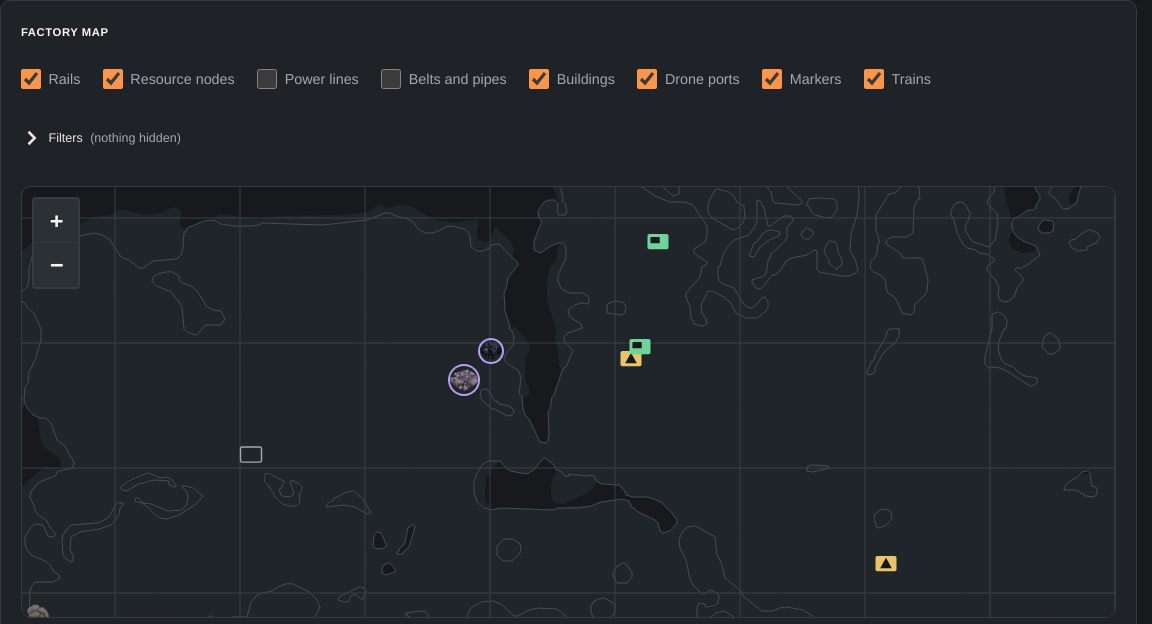
Test: map filters › shows a group only while its layer is on
Click the text "Filters" at [66, 138], box [48,128,83,147]
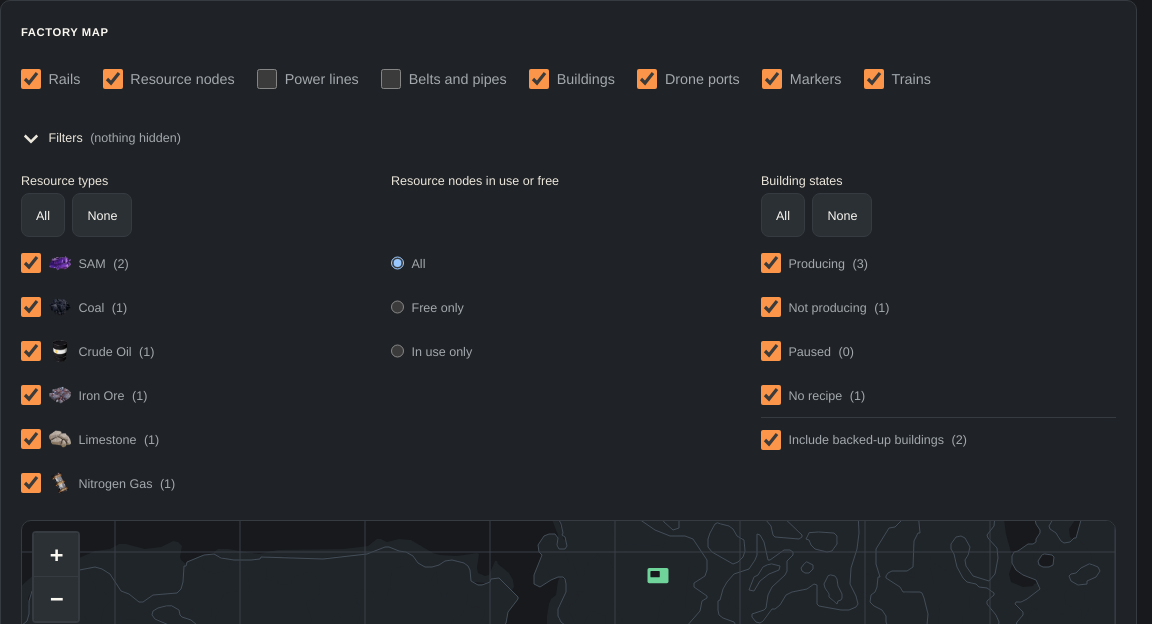
Click the checkbox labelled "Resource nodes" at [113, 78], box [103,68,123,88]
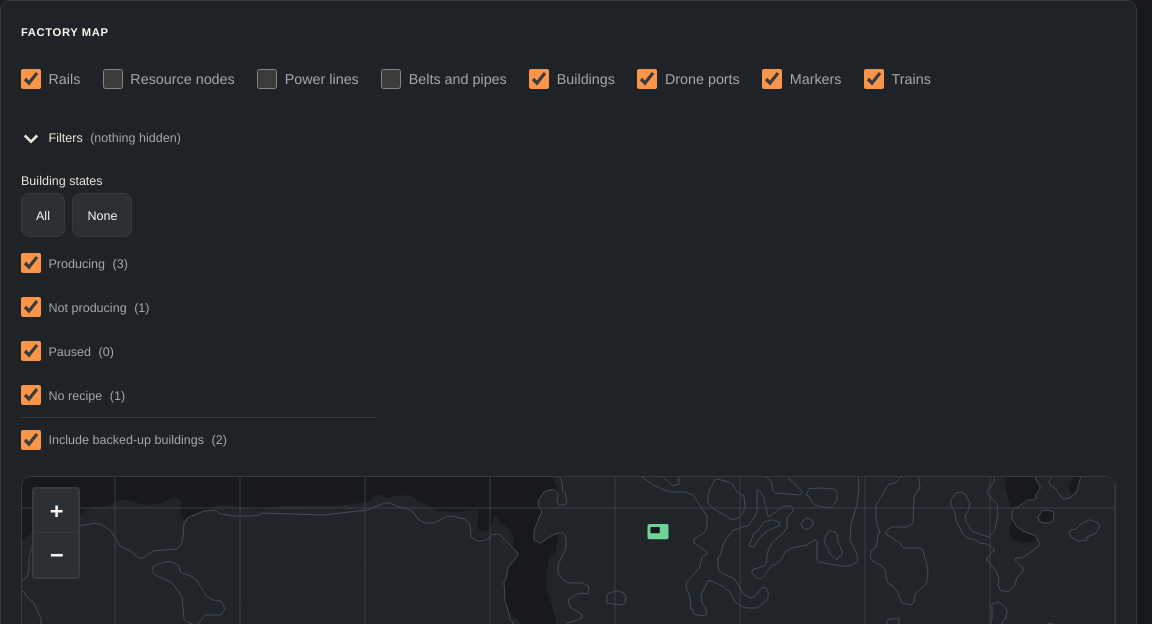
Check: the element "Building states" is shown, box [21,171,376,461]
Check: the text "Resource types" is gone
Click the checkbox labelled "Buildings" at [539, 78], box [529,68,549,88]
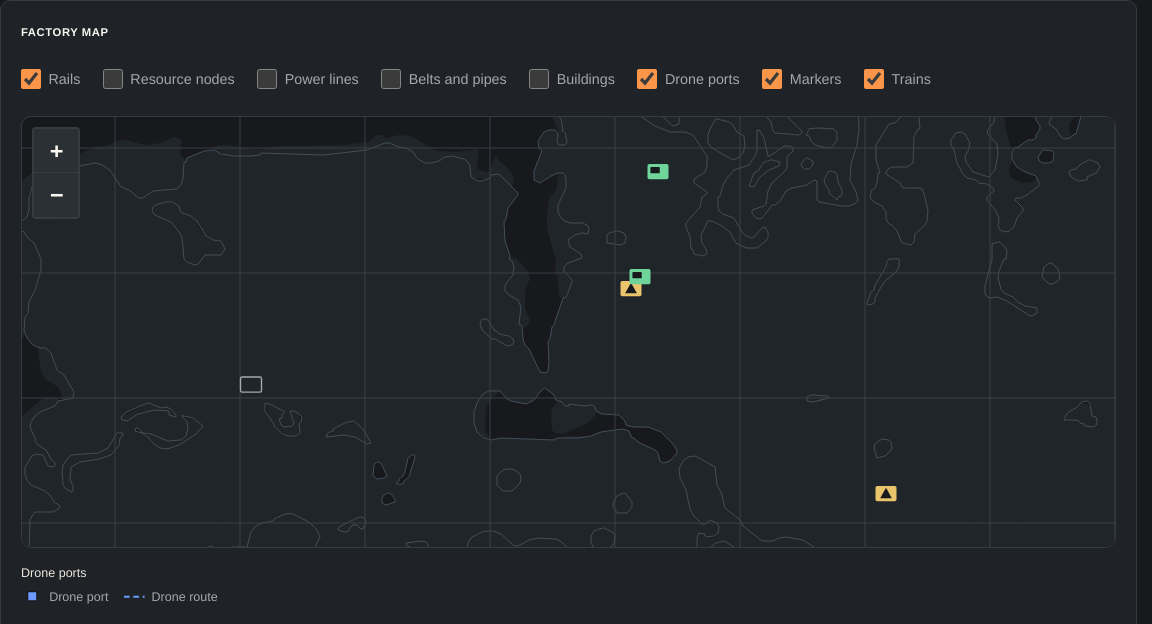
Check: the heading "Filters" is gone
